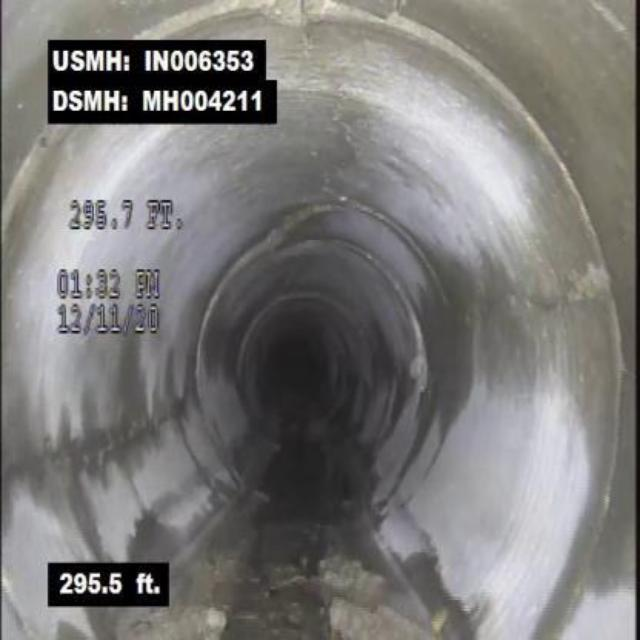Crack: (474, 275, 600, 345), (15, 417, 132, 492)
Debris: (189, 512, 475, 638)
